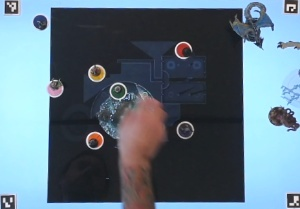blue: (30, 13, 49, 31)
green: (108, 81, 128, 100)
orange: (83, 130, 107, 149)
pink: (42, 79, 64, 99)
red: (174, 40, 193, 60)
violet: (176, 119, 196, 141)
yellow: (86, 63, 106, 84)
